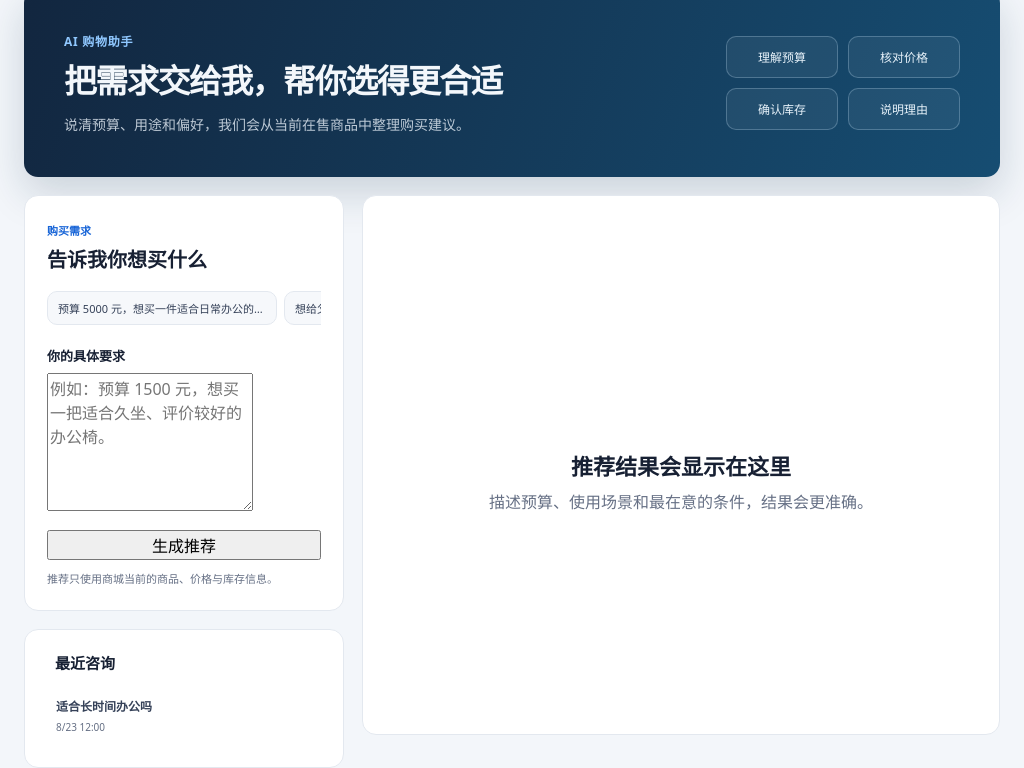
Test case: ShoppingGuideView › renders AI Markdown emphasis instead of showing asterisks
(page scrolled)
Click the button "适合长时间办公吗 8/23 12:00" at point(104, 706), box [47,686,321,745]
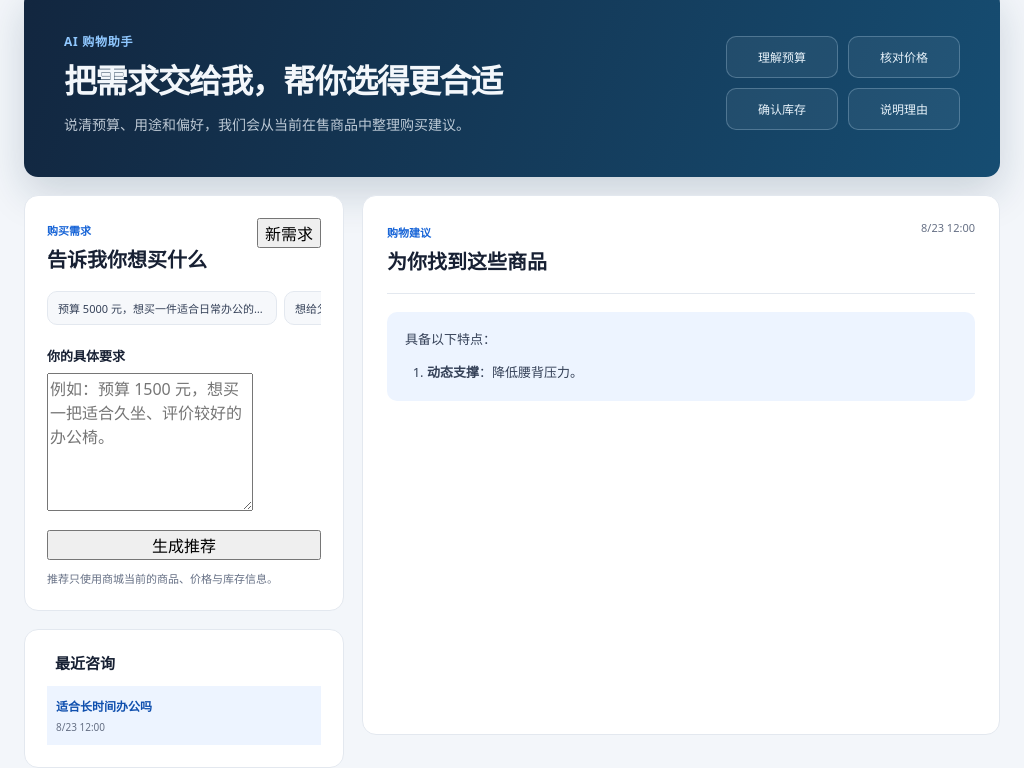
Expected: the text "动态支撑" is shown, [427,363,479,381]
